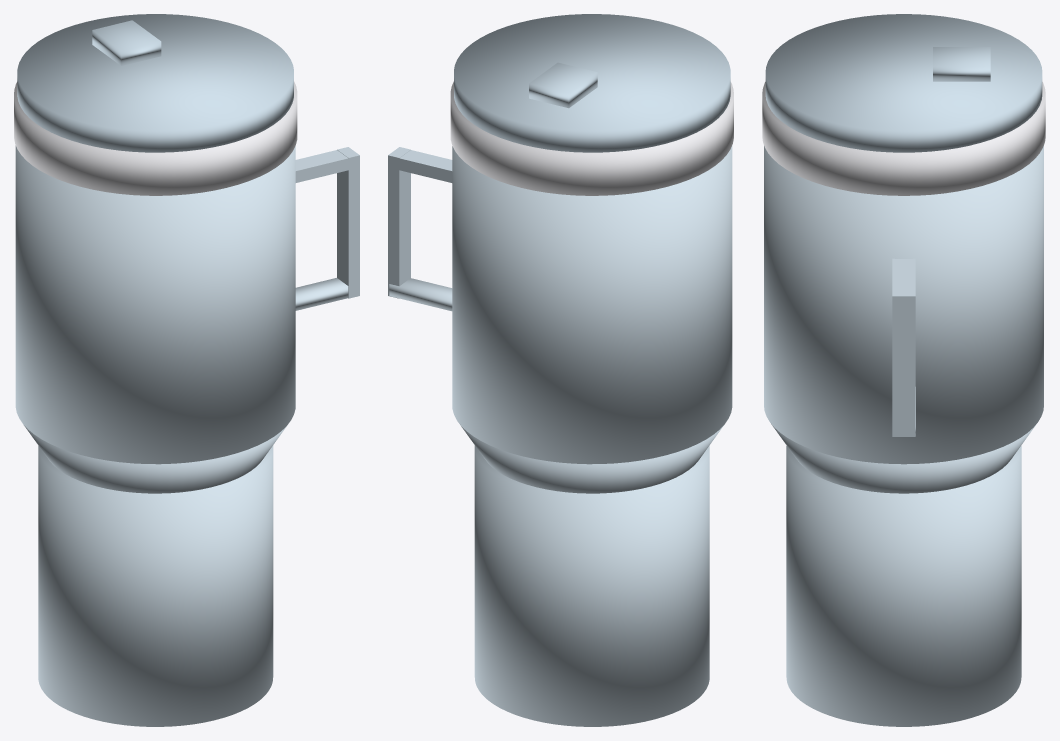
Rendered from Termo.fbx.
The picture shows the model from 3 angles, left to right: view 1: azimuth 30°, elevation 25°; view 2: azimuth 150°, elevation 25°; view 3: azimuth 270°, elevation 25°; orthographic projection.
Visible parts, largest first — view 1: Cuerpo_Superior, Base_Inferior, Tapa, Aro_Metalico, Transicion, Cube, Broche_Tapa, Cube.001, Cube.002; view 2: Cuerpo_Superior, Base_Inferior, Tapa, Aro_Metalico, Transicion, Cube, Broche_Tapa, Cube.002, Cube.001; view 3: Cuerpo_Superior, Base_Inferior, Tapa, Aro_Metalico, Transicion, Cube, Broche_Tapa, Cube.001.
Part boxes in pixels (bbox=[...]): Cuerpo_Superior: bbox=[15, 145, 295, 464]; Base_Inferior: bbox=[38, 445, 273, 726]; Tapa: bbox=[17, 14, 293, 152]; Aro_Metalico: bbox=[14, 81, 297, 195]; Transicion: bbox=[24, 425, 286, 493]; Cube: bbox=[337, 147, 359, 298]; Broche_Tapa: bbox=[92, 20, 161, 65]; Cube.001: bbox=[295, 150, 359, 182]; Cube.002: bbox=[295, 278, 348, 310]; Cuerpo_Superior: bbox=[452, 145, 732, 464]; Base_Inferior: bbox=[474, 445, 709, 726]; Tapa: bbox=[454, 14, 730, 152]; Aro_Metalico: bbox=[450, 81, 733, 195]; Transicion: bbox=[461, 425, 723, 493]; Cube: bbox=[388, 147, 410, 298]; Broche_Tapa: bbox=[529, 62, 597, 108]; Cube.002: bbox=[389, 278, 452, 311]; Cube.001: bbox=[399, 150, 452, 182]; Cuerpo_Superior: bbox=[764, 146, 1043, 464]; Base_Inferior: bbox=[786, 446, 1021, 726]; Tapa: bbox=[765, 14, 1042, 152]; Aro_Metalico: bbox=[762, 82, 1045, 195]; Transicion: bbox=[771, 424, 1036, 493]; Cube: bbox=[892, 290, 915, 436]; Broche_Tapa: bbox=[933, 47, 990, 81]; Cube.001: bbox=[892, 258, 915, 290].
Size of the model in its own units: 2.25 by 4.15 by 1.72.
